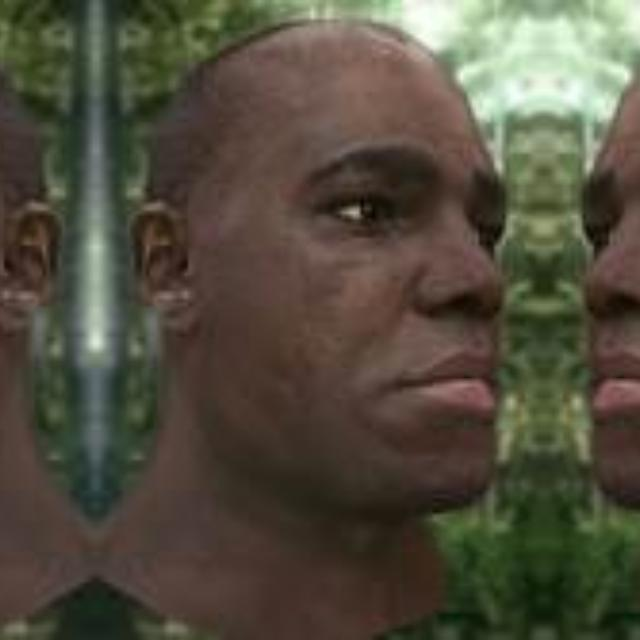person: (115, 6, 543, 640), (543, 6, 640, 640), (0, 6, 75, 640)
